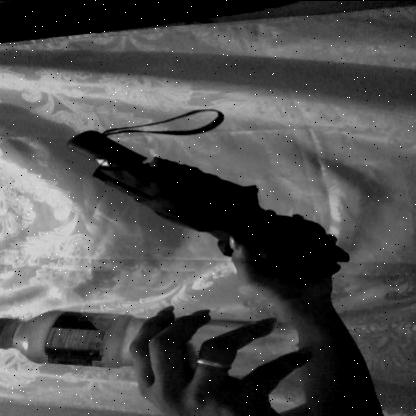Plastic Bottle: (0, 306, 316, 382)
